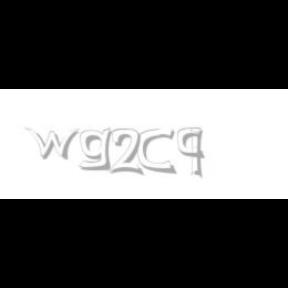2: (108, 128, 142, 176)
C: (138, 128, 174, 174)
c: (178, 128, 206, 160)
g: (79, 128, 116, 171)
l: (190, 128, 206, 180)
w: (24, 128, 84, 160)
